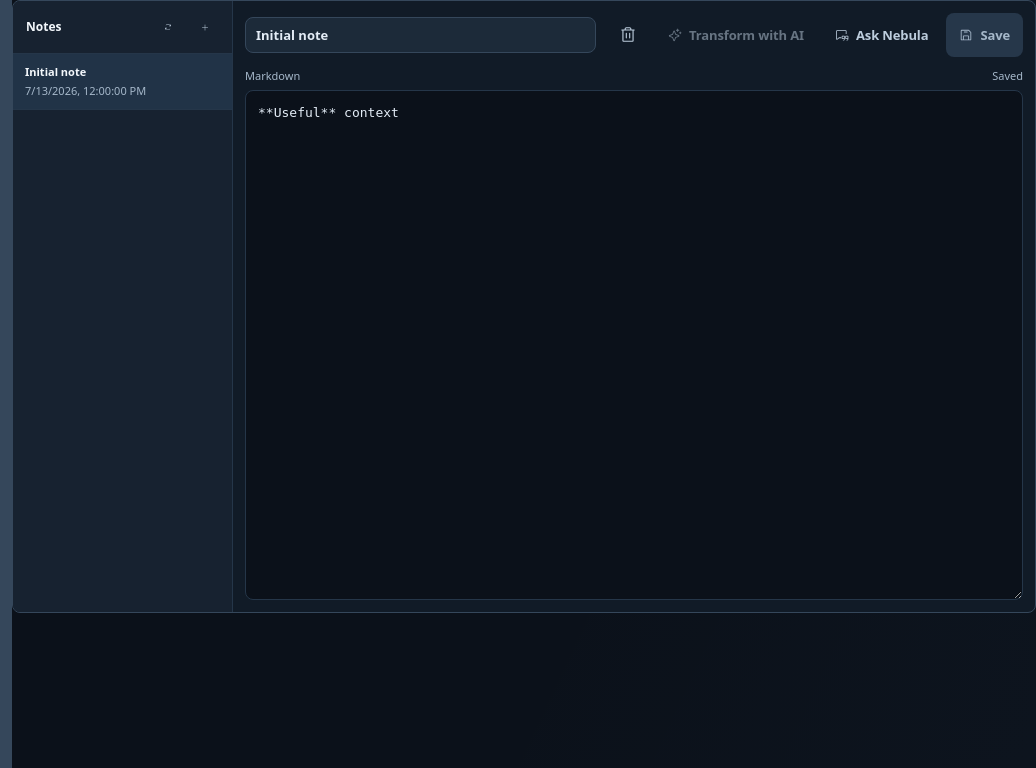
Test: NotesPanel › autosaves an existing note and keeps text typed during the save
The image size is (1036, 768).
Replace the text in the text box named "Note body" with "First change" at (634, 345), box [245,90,1023,600]
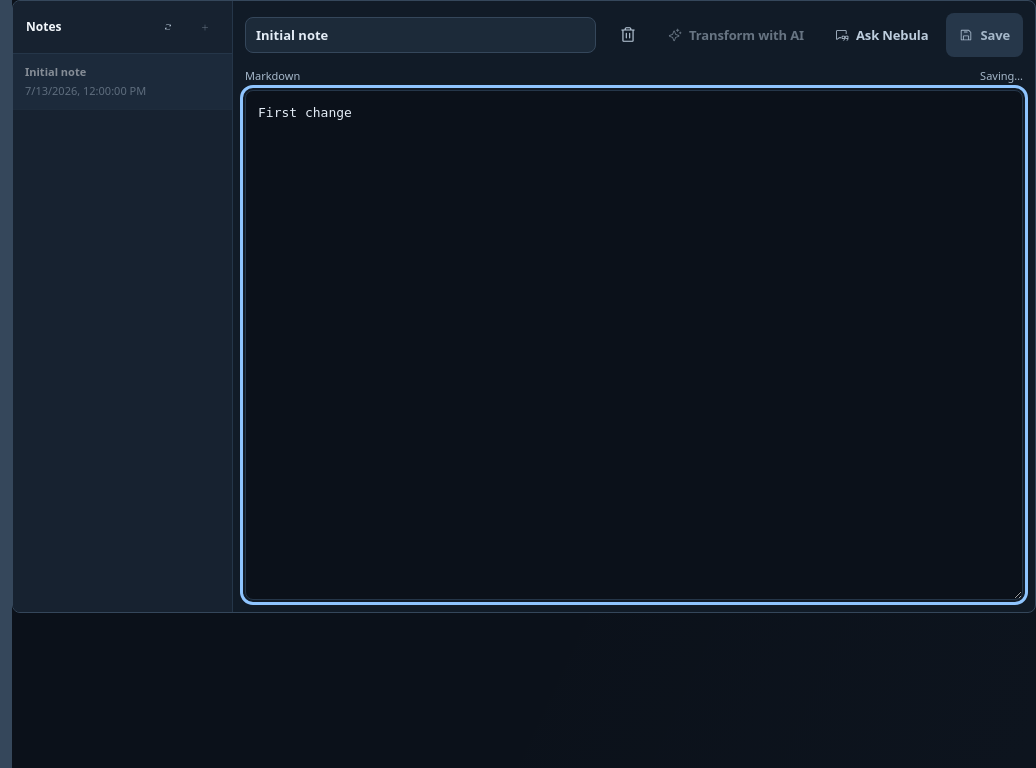
Type " later" into the text box named "Note body" at (634, 345), box [245,90,1023,600]
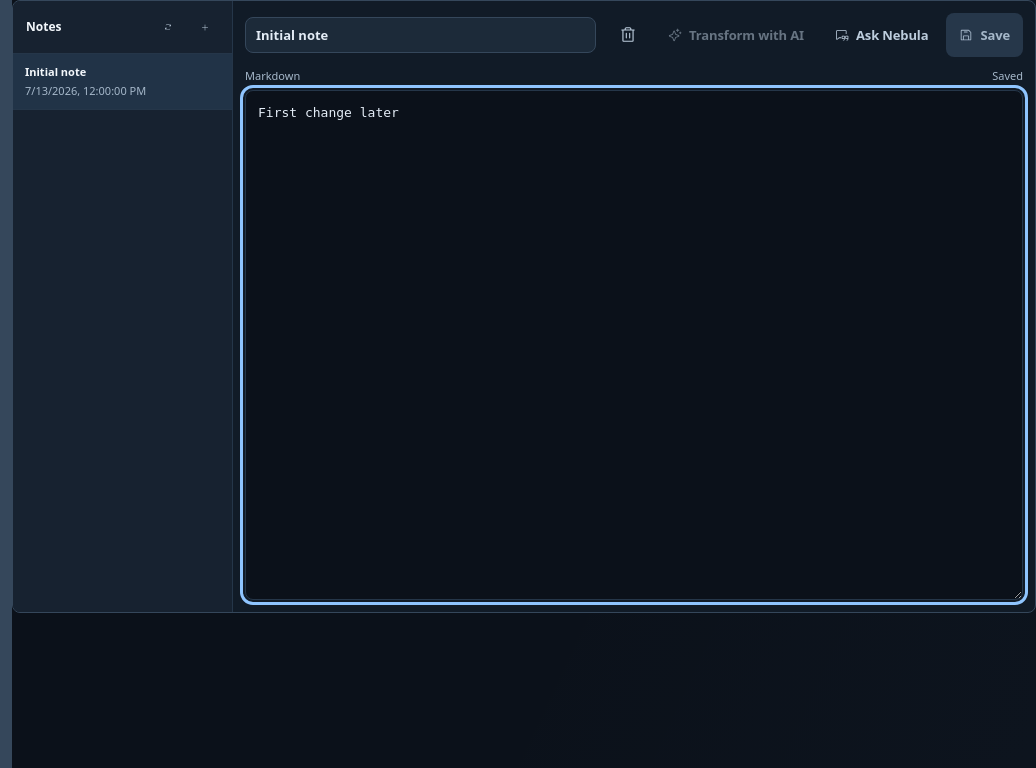
Expected: the text box named "Note body" holds "First change later", [245,90,1023,600]
